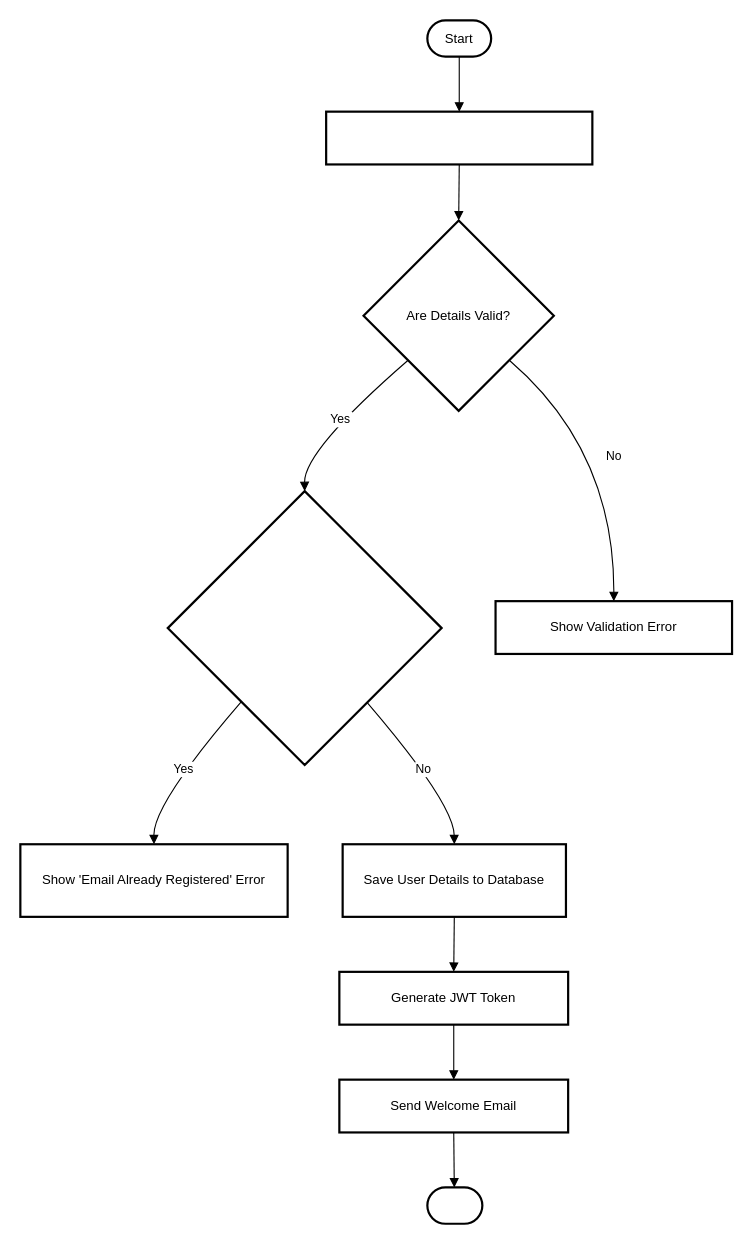
Some shapes in this 751 by 1243 pixel diagram are drawn without their labels. Each missing label, with the centre of its shape:
"End" belongs at point 454,1205.
"Input Registration Details" belongs at point 458,137.
"Is Email Already Registered?" belongs at point 304,628.
